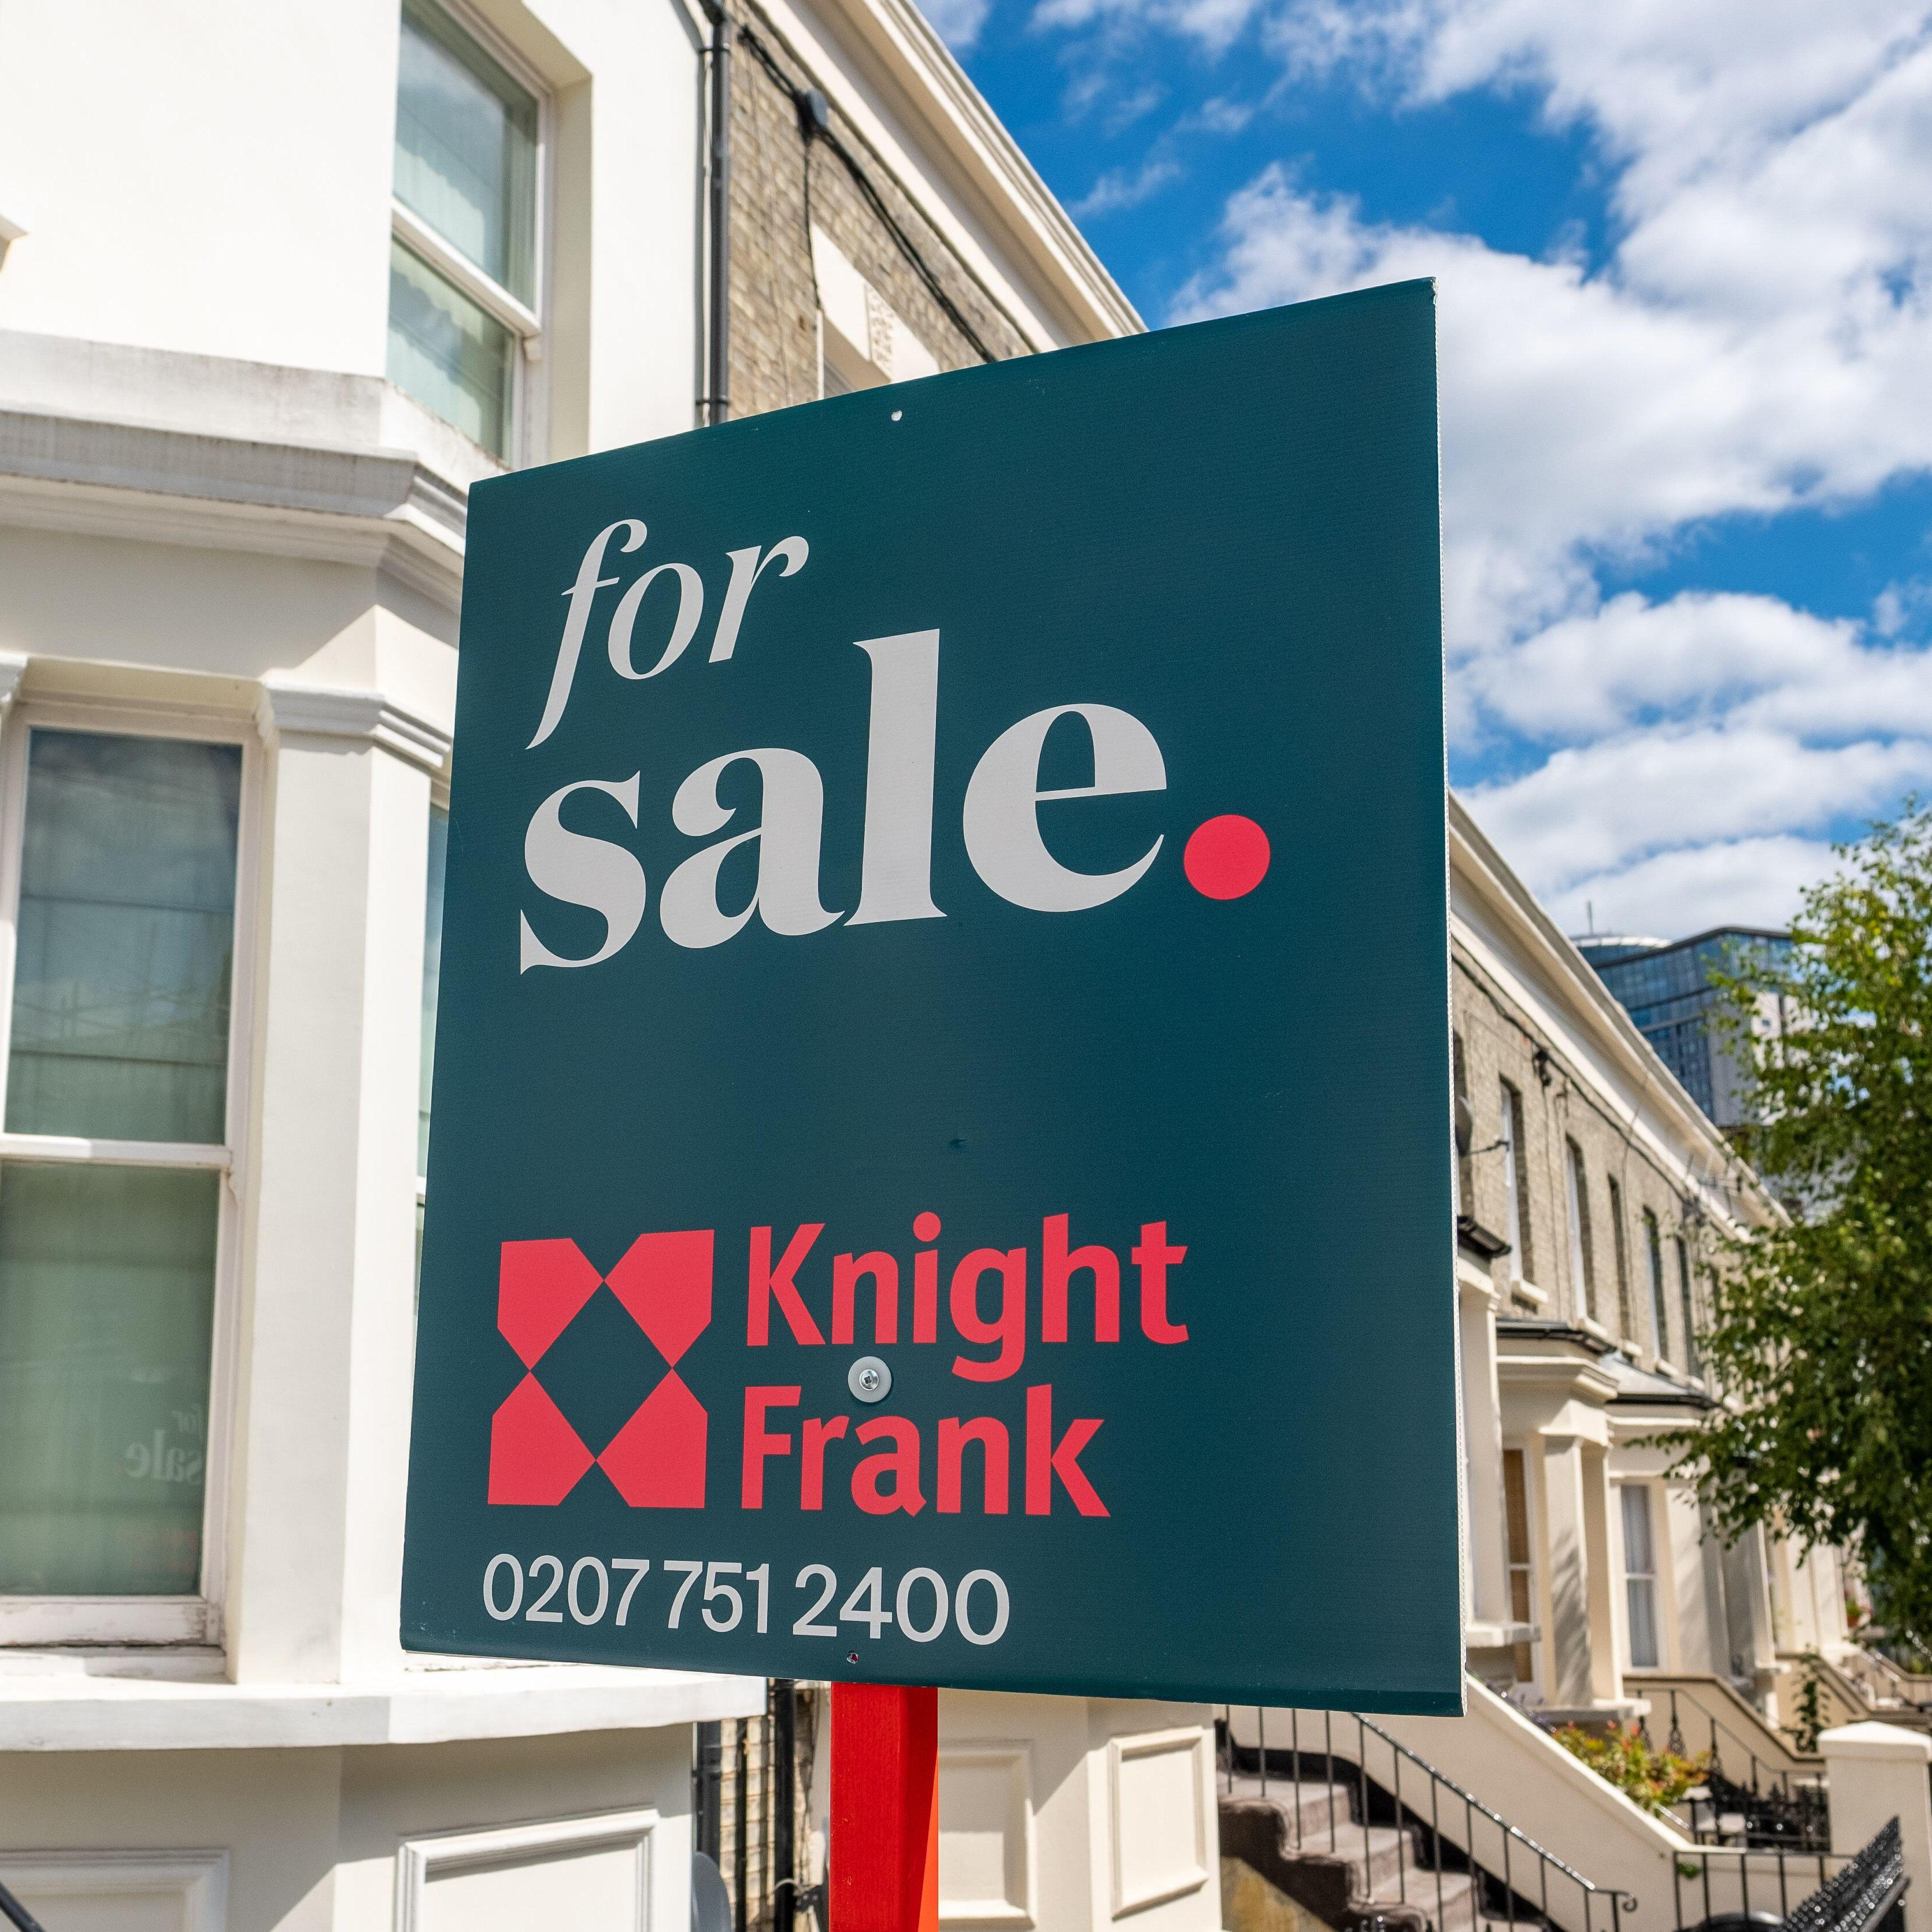property sign: (347, 202, 1568, 1780)
